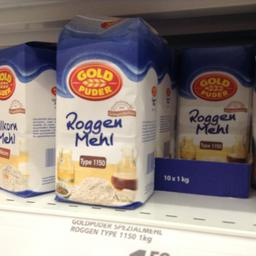flour: (55, 21, 158, 208), (0, 40, 56, 198), (172, 60, 252, 162)
